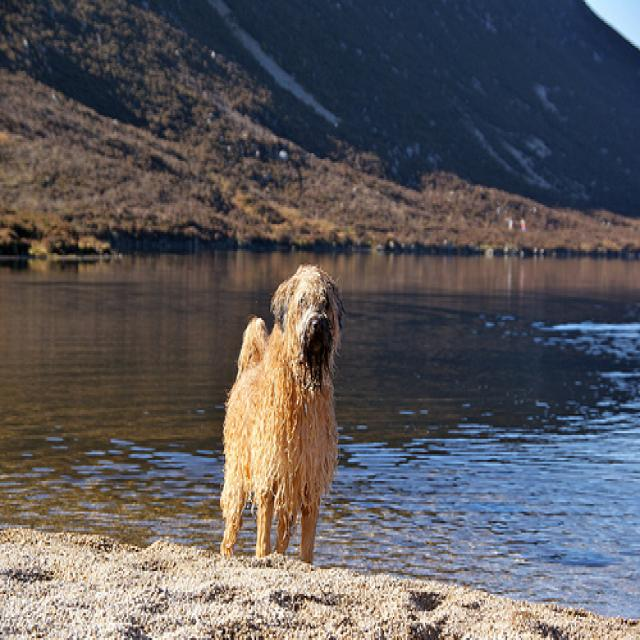dog-wheaten_terrier: (212, 247, 347, 571)
